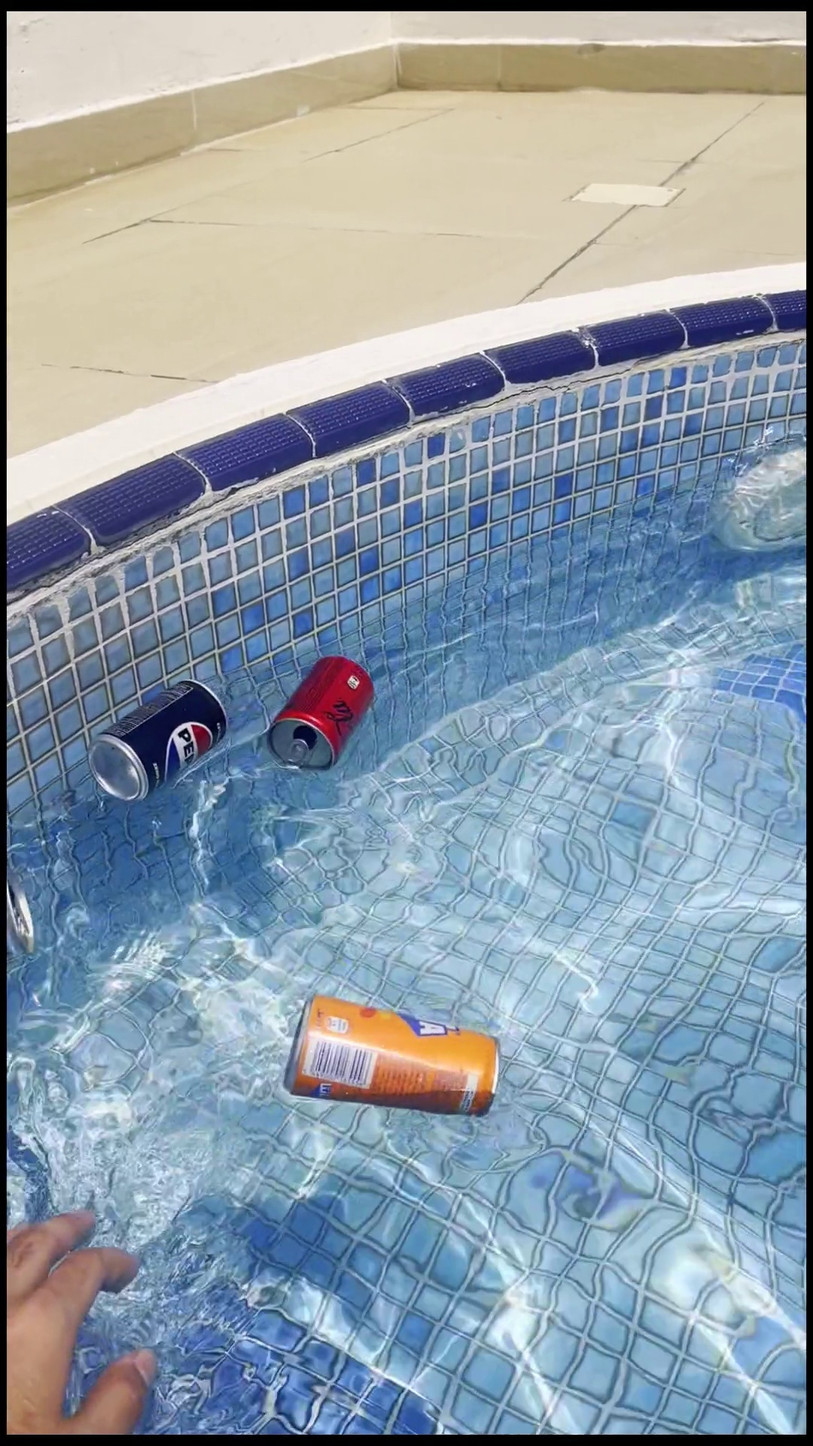debris: (281, 961, 503, 1149), (78, 668, 230, 820), (262, 617, 376, 798), (8, 850, 36, 977)
